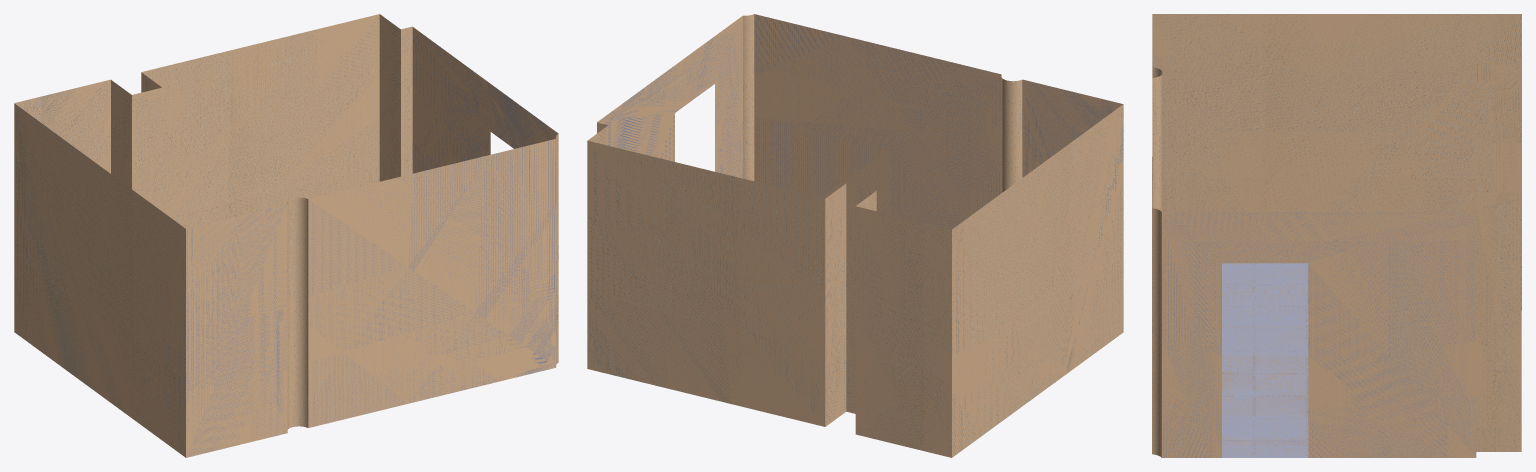
The model's file is COM021.obj.
3 renders of one model, left to right at view 1: azimuth 30°, elevation 25°; view 2: azimuth 150°, elevation 25°; view 3: azimuth 270°, elevation 25°, orthographic. The views are drawn at different scales.
Visible parts, largest first — view 1: Mesh1 COM021 Model; view 2: Mesh1 COM021 Model; view 3: Mesh1 COM021 Model.
Boxes of the visible parts, <box> form: Mesh1 COM021 Model: <box>14,14,558,457</box>; Mesh1 COM021 Model: <box>587,14,1123,457</box>; Mesh1 COM021 Model: <box>1152,14,1521,457</box>.
Bounding box in the file's own units: 6.21 × 3.6 × 4.9.
Materials: 4 (2 with a texture image).
